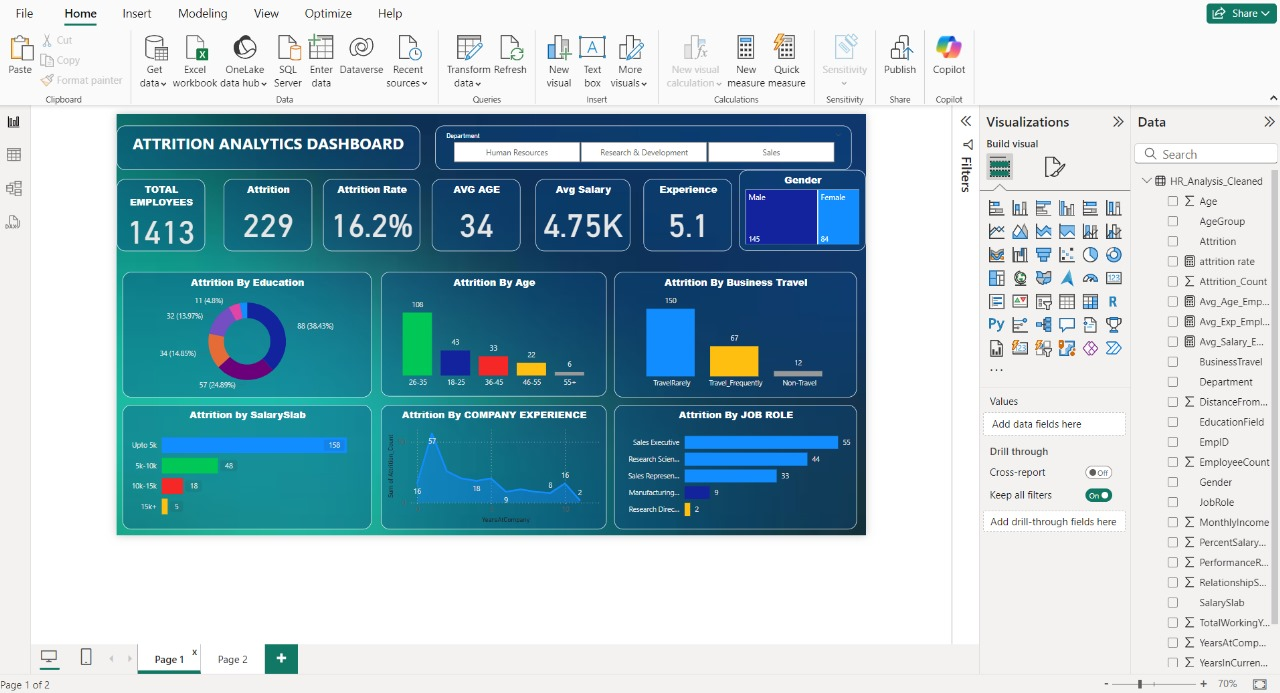

The dashboard page shown, as its layout file describes it:
{"tool":"powerbi","page":{"name":"Page 1","canvas":[1280,720],"ordinal":0},"visuals":[{"type":"card","title":"TOTAL EMPLOYEES ","fields":{"Values":["Sum(HR_Analysis_Cleaned.EmployeeCount)"]},"box":[0,111.4,151.4,122.9],"z":0},{"type":"card","title":"Attrition ","fields":{"Values":["Sum(HR_Analysis_Cleaned.Attrition_Count)"]},"box":[182.9,111.4,151.4,122.9],"z":1000},{"type":"card","title":"Attrition Rate","fields":{"Values":["HR_Analysis_Cleaned.attrition rate"]},"box":[352.9,111.4,165.7,122.9],"z":2000},{"type":"card","title":"AVG AGE ","fields":{"Values":["HR_Analysis_Cleaned.Avg_Age_Employees_Left"]},"box":[538.6,111.4,151.4,122.9],"z":3000},{"type":"card","title":"Avg Salary","fields":{"Values":["HR_Analysis_Cleaned.Avg_Salary_Employees_Left"]},"box":[715.7,111.4,161.4,122.9],"z":4000},{"type":"card","title":"Experience ","fields":{"Values":["HR_Analysis_Cleaned.Avg_Exp_Employees_Left"]},"box":[900,111.4,151.4,122.9],"z":5000},{"type":"donutChart","title":"Attrition By Education ","fields":{"Category":["HR_Analysis_Cleaned.EducationField"],"Y":["Sum(HR_Analysis_Cleaned.Attrition_Count)"]},"box":[10,270,425.7,214.3],"z":6000},{"type":"barChart","title":"Attrition by SalarySlab","fields":{"Y":["Sum(HR_Analysis_Cleaned.Attrition_Count)"],"Category":["HR_Analysis_Cleaned.SalarySlab"]},"box":[10,497.1,425.7,212.9],"z":7000},{"type":"textbox","box":[0,20,518.6,75.7],"z":8000},{"type":"slicer","fields":{"Values":["HR_Analysis_Cleaned.Department"]},"box":[544.3,20,711.4,75.7],"z":9000},{"type":"treemap","title":"Gender ","fields":{"Group":["HR_Analysis_Cleaned.Gender"],"Values":["Sum(HR_Analysis_Cleaned.Attrition_Count)"]},"box":[1062.9,95.7,217.1,138.6],"z":10000},{"type":"columnChart","title":"Attrition By Business Travel","fields":{"Category":["HR_Analysis_Cleaned.BusinessTravel"],"Y":["Sum(HR_Analysis_Cleaned.Attrition_Count)"]},"box":[850,270,414.3,214.3],"z":11000},{"type":"barChart","title":"Attrition By JOB ROLE","fields":{"Category":["HR_Analysis_Cleaned.JobRole"],"Y":["Sum(HR_Analysis_Cleaned.Attrition_Count)"]},"box":[850,497.1,414.3,212.9],"z":12000},{"type":"areaChart","title":"Attrition By COMPANY EXPERIENCE ","fields":{"Category":["HR_Analysis_Cleaned.YearsAtCompany"],"Y":["Sum(HR_Analysis_Cleaned.Attrition_Count)"]},"box":[451.4,497.1,385.7,212.9],"z":13000},{"type":"columnChart","title":"Attrition By Age","fields":{"Category":["HR_Analysis_Cleaned.AgeGroup"],"Y":["Sum(HR_Analysis_Cleaned.Attrition_Count)"]},"box":[451.4,270,385.7,212.9],"z":14000}]}

Visuals, with their boxes on the page's 1280x720 design canvas (x1, y1, x2, y2). These are canvas units, not pixel positions in the 1280x693 screenshot, which may show the page scaled, cropped or inside an application window:
"TOTAL EMPLOYEES " card: BBox(0, 111, 151, 234)
"Attrition " card: BBox(183, 111, 334, 234)
"Attrition Rate" card: BBox(353, 111, 519, 234)
"AVG AGE " card: BBox(539, 111, 690, 234)
"Avg Salary" card: BBox(716, 111, 877, 234)
"Experience " card: BBox(900, 111, 1051, 234)
"Attrition By Education " donutChart: BBox(10, 270, 436, 484)
"Attrition by SalarySlab" barChart: BBox(10, 497, 436, 710)
textbox: BBox(0, 20, 519, 96)
slicer - HR_Analysis_Cleaned.Department: BBox(544, 20, 1256, 96)
"Gender " treemap: BBox(1063, 96, 1280, 234)
"Attrition By Business Travel" columnChart: BBox(850, 270, 1264, 484)
"Attrition By JOB ROLE" barChart: BBox(850, 497, 1264, 710)
"Attrition By COMPANY EXPERIENCE " areaChart: BBox(451, 497, 837, 710)
"Attrition By Age" columnChart: BBox(451, 270, 837, 483)
